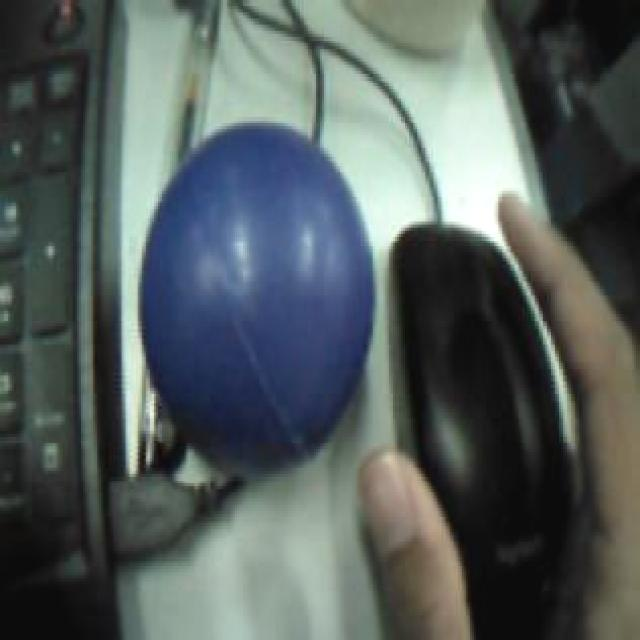BallPurple: (140, 122, 374, 478)
